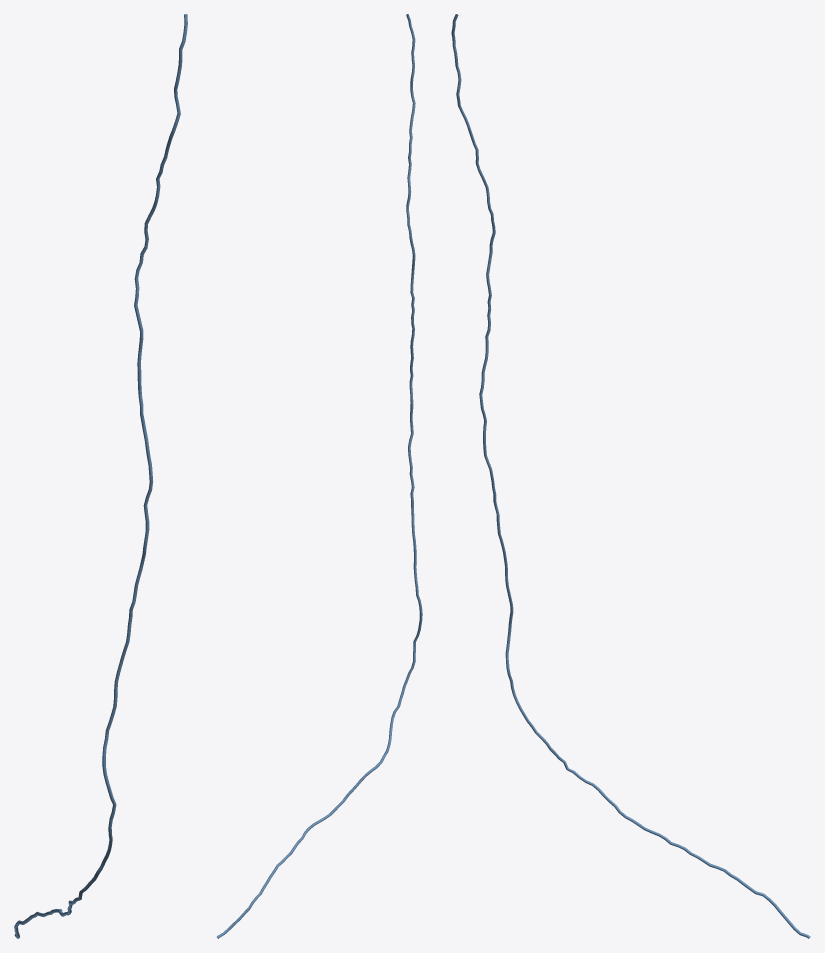
File: sweep7.fbx
3 renders of one model, left to right at view 1: azimuth 30°, elevation 25°; view 2: azimuth 150°, elevation 25°; view 3: azimuth 270°, elevation 25°, orthographic. The views are drawn at different scales.
Parts seen in each view (by area): view 1: sweep7; view 2: sweep7; view 3: sweep7.
Part boxes in pixels (bbox=[...]): sweep7: bbox=[14, 14, 187, 938]; sweep7: bbox=[216, 14, 422, 938]; sweep7: bbox=[451, 14, 810, 938].
Size of the model in its own units: 0.5967 by 6.54 by 2.35.
